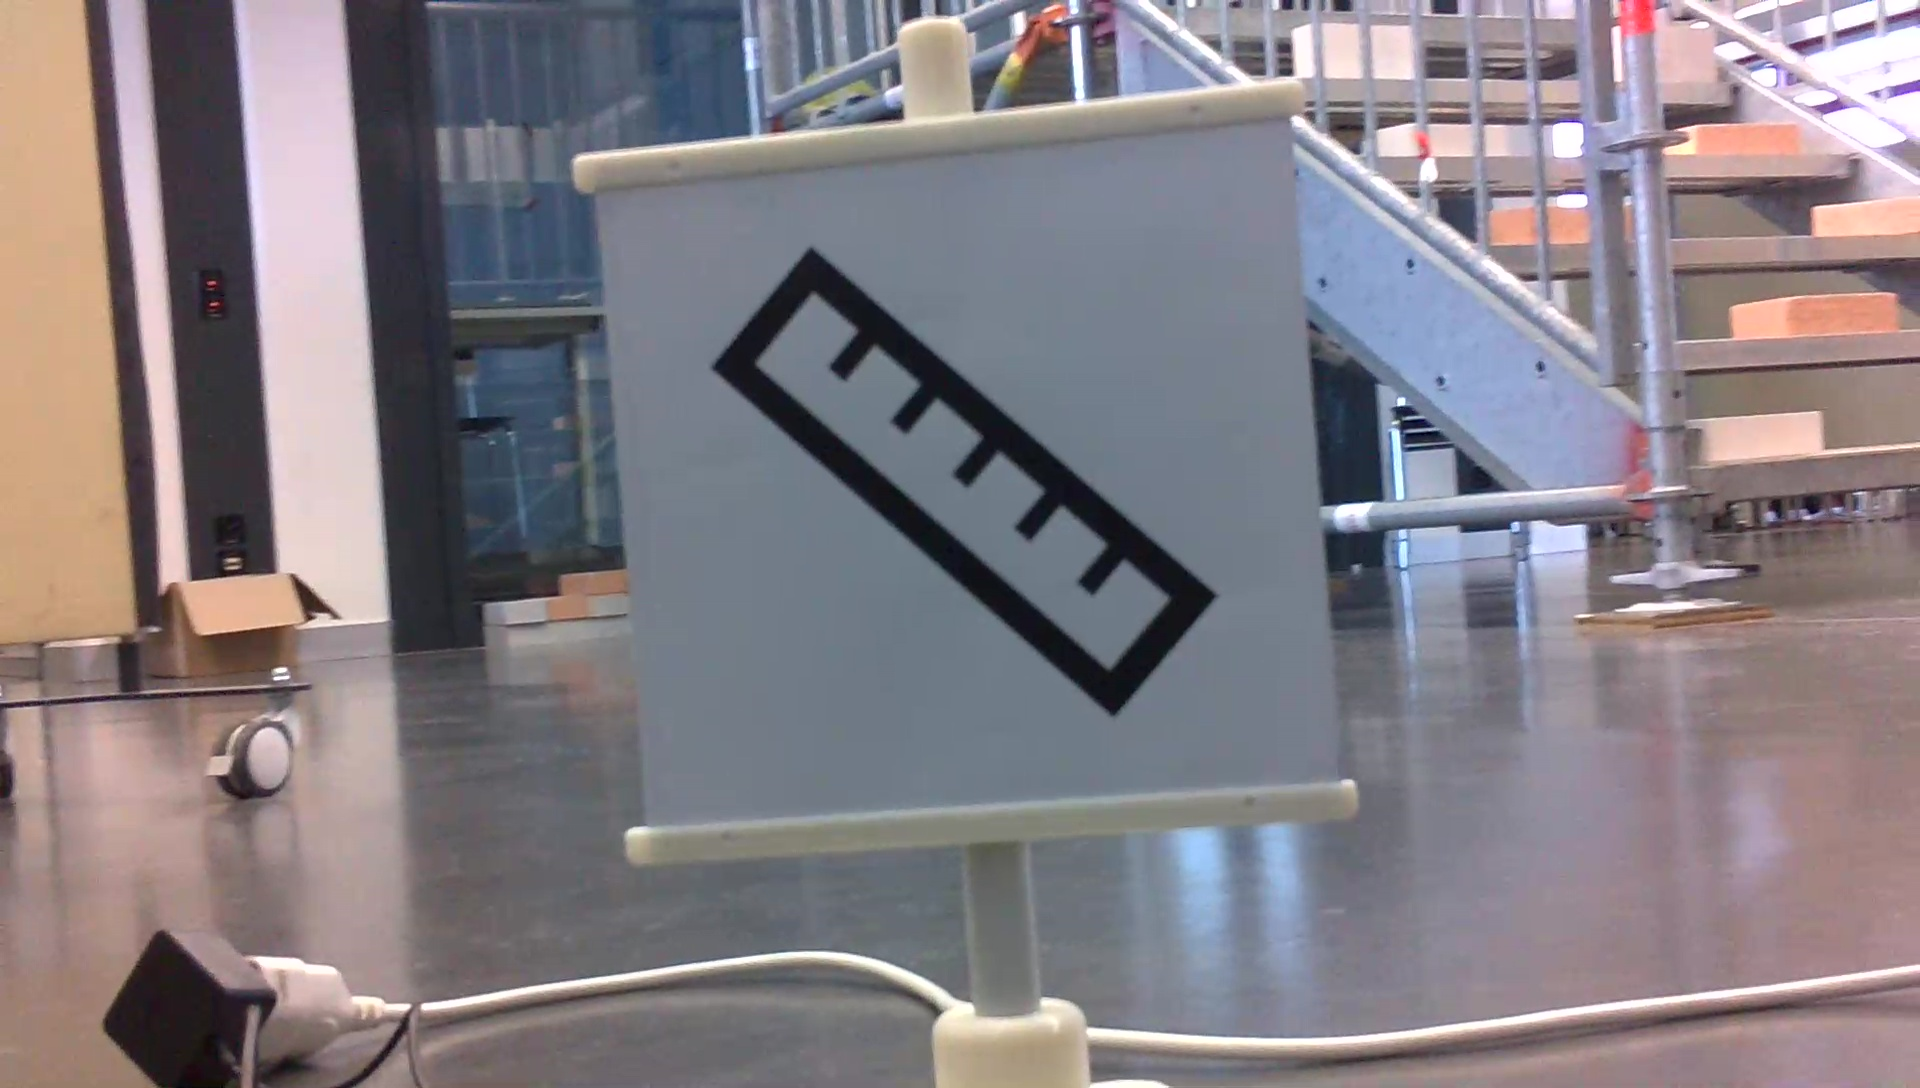brick: (1721, 294, 1902, 343), (1689, 404, 1829, 460), (1673, 121, 1793, 164), (1811, 204, 1920, 236)
ruler: (709, 237, 1232, 736)
